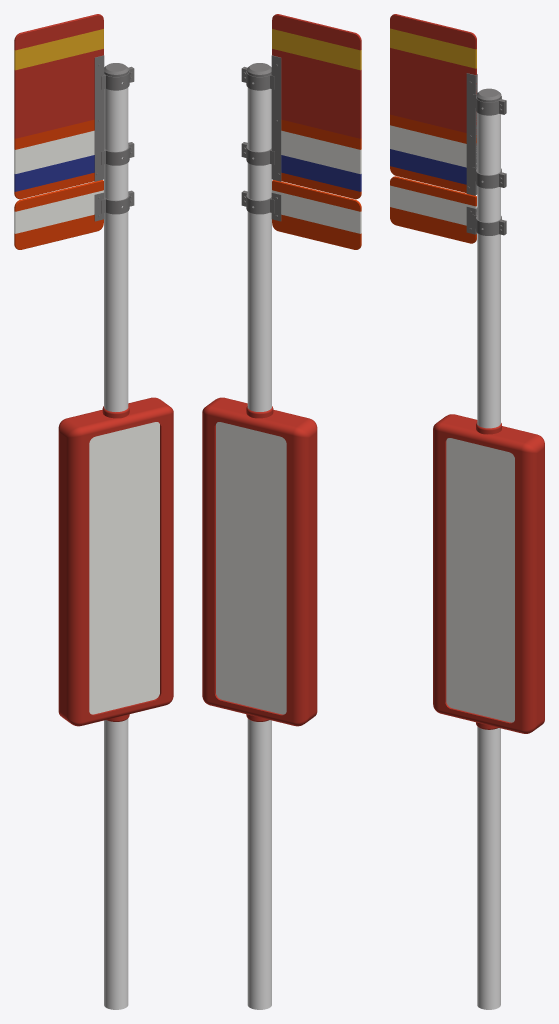
File: bus stand version1 v1.fbx
3 views of the same model, side by side, from view 1: azimuth 30°, elevation 25°; view 2: azimuth 150°, elevation 25°; view 3: azimuth 330°, elevation 25° (orthographic). The views are drawn at different scales.
Visible parts, largest first — view 1: Body89, Body5, Body1, Body91, Body80, Body94, Body92, Body100, Body97, Body9, Body95, Body81 (+3 smaller); view 2: Body90, Body5, Body1, Body91, Body80, Body94, Body92, Body100, Body97, Body9, Body95, Body81 (+3 smaller); view 3: Body89, Body5, Body1, Body91, Body80, Body94, Body100, Body92, Body97, Body9, Body95, Body81 (+3 smaller).
Part boxes in pixels (<box>): Body89: <box>89,422,159,714</box>; Body5: <box>58,397,173,726</box>; Body1: <box>104,82,128,1009</box>; Body91: <box>14,49,103,138</box>; Body80: <box>94,55,134,181</box>; Body94: <box>14,130,94,173</box>; Body92: <box>14,190,103,233</box>; Body100: <box>14,29,103,70</box>; Body97: <box>14,214,103,249</box>; Body9: <box>14,14,103,50</box>; Body95: <box>14,155,94,191</box>; Body81: <box>14,180,103,211</box>; Body90: <box>216,422,286,714</box>; Body5: <box>202,397,317,726</box>; Body1: <box>247,82,271,1009</box>; Body91: <box>272,49,361,138</box>; Body80: <box>241,55,281,181</box>; Body94: <box>281,130,361,174</box>; Body92: <box>272,190,361,233</box>; Body100: <box>272,29,361,70</box>; Body97: <box>272,214,361,249</box>; Body9: <box>272,14,361,50</box>; Body95: <box>281,155,361,191</box>; Body81: <box>272,180,361,211</box>; Body89: <box>446,438,514,722</box>; Body5: <box>433,414,544,733</box>; Body1: <box>477,107,500,1009</box>; Body91: <box>390,48,476,133</box>; Body80: <box>466,73,506,195</box>; Body94: <box>390,125,476,167</box>; Body100: <box>390,28,476,68</box>; Body92: <box>390,185,476,225</box>; Body97: <box>390,207,476,243</box>; Body9: <box>390,14,476,49</box>; Body95: <box>390,149,466,184</box>; Body81: <box>390,176,476,206</box>.
Size of the model in its own units: 73 by 450 by 15.
